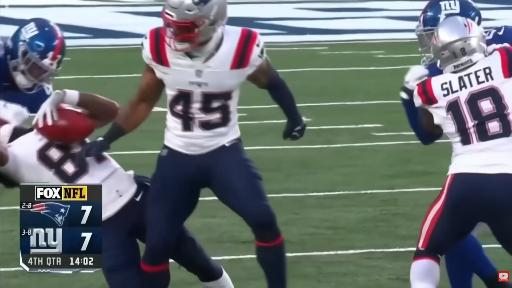Helmet: (416, 0, 481, 65), (8, 19, 65, 92), (162, 0, 227, 51), (431, 17, 486, 72)
Jersey: (142, 26, 265, 154), (414, 47, 511, 173), (0, 131, 137, 220), (0, 40, 52, 113), (427, 62, 443, 77)
Player: (82, 0, 306, 287), (0, 104, 150, 287), (411, 17, 511, 287), (400, 0, 482, 144), (0, 18, 65, 113)
